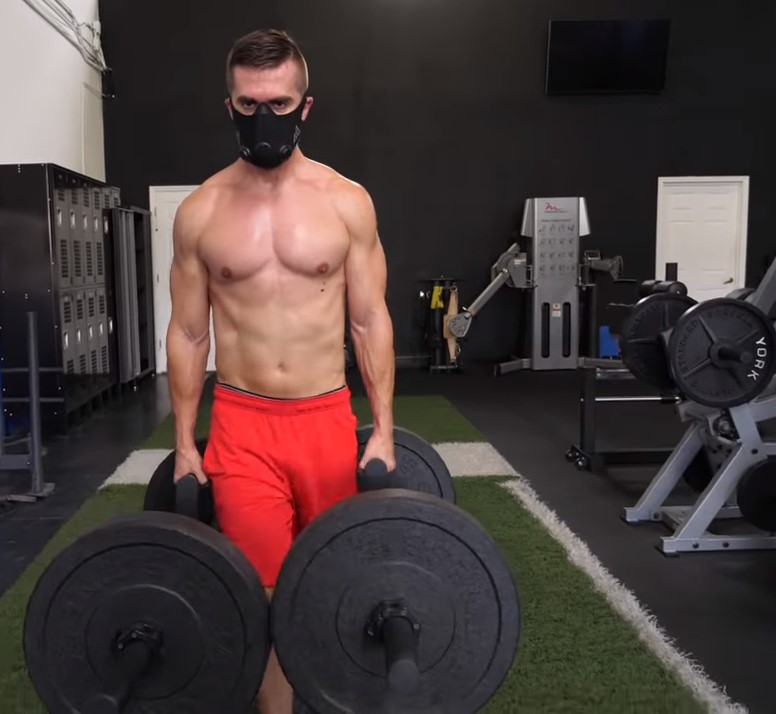face_with_mask: (221, 32, 316, 161)
